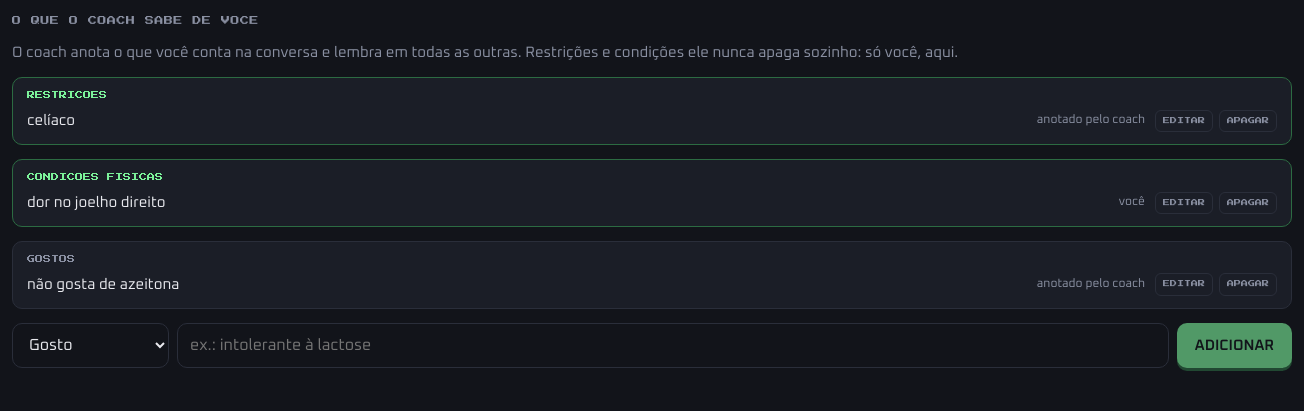
Test: Memorias › edita o texto de uma memória
The image size is (1304, 411).
Click the button with aria-label "editar não gosta de azeitona". click: (1184, 284)
box: [1155,273,1213,296]
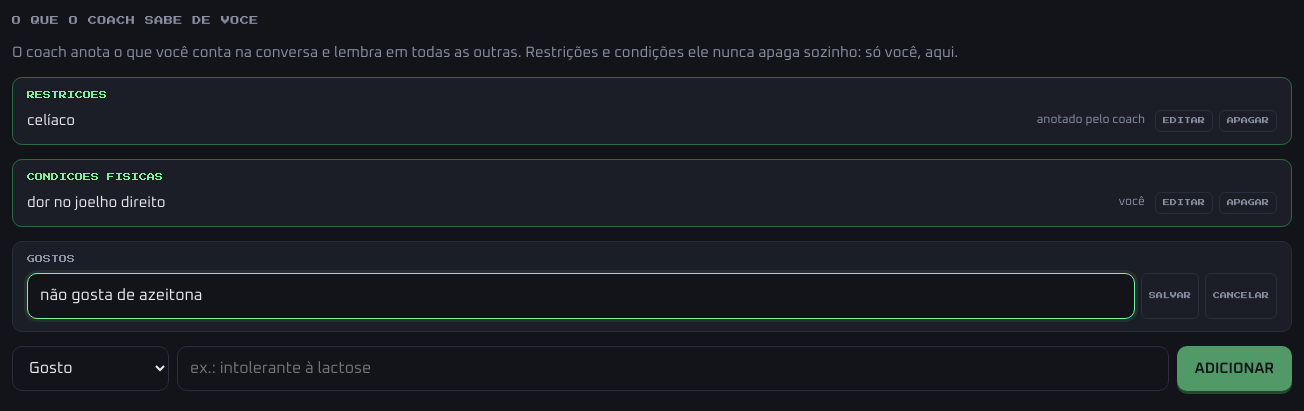
Replace the text in the field named "editar memória" with "detesta azeitona preta". click: (581, 296)
box: [27,273,1135,319]
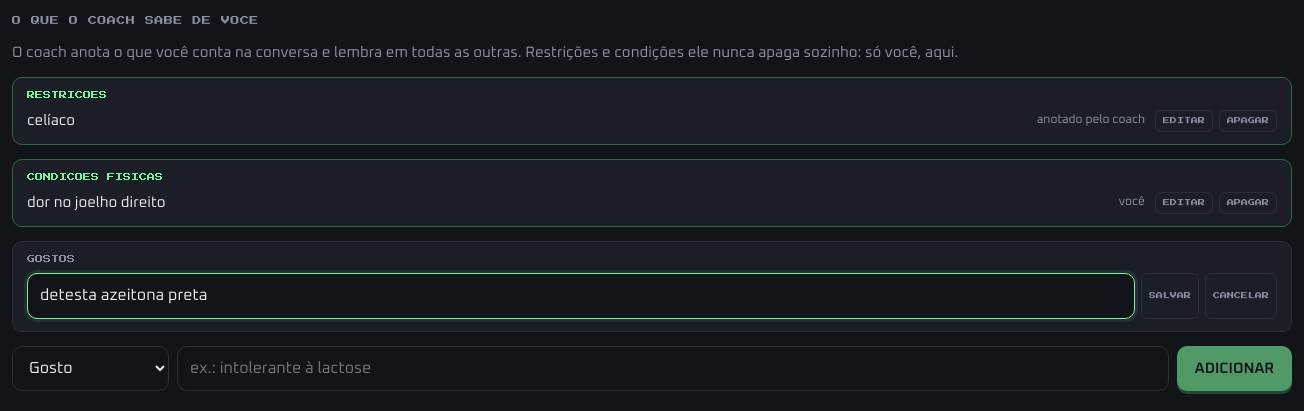
Click the button "SALVAR". click: (1170, 296)
box: [1141,273,1199,319]
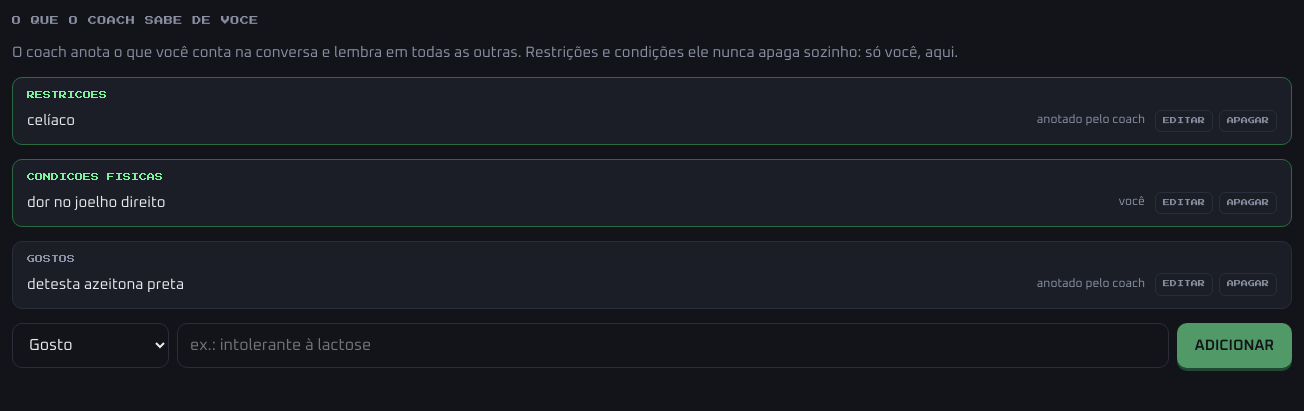
expect the text "detesta azeitona preta" is shown: met, box [27,277,184,292]
